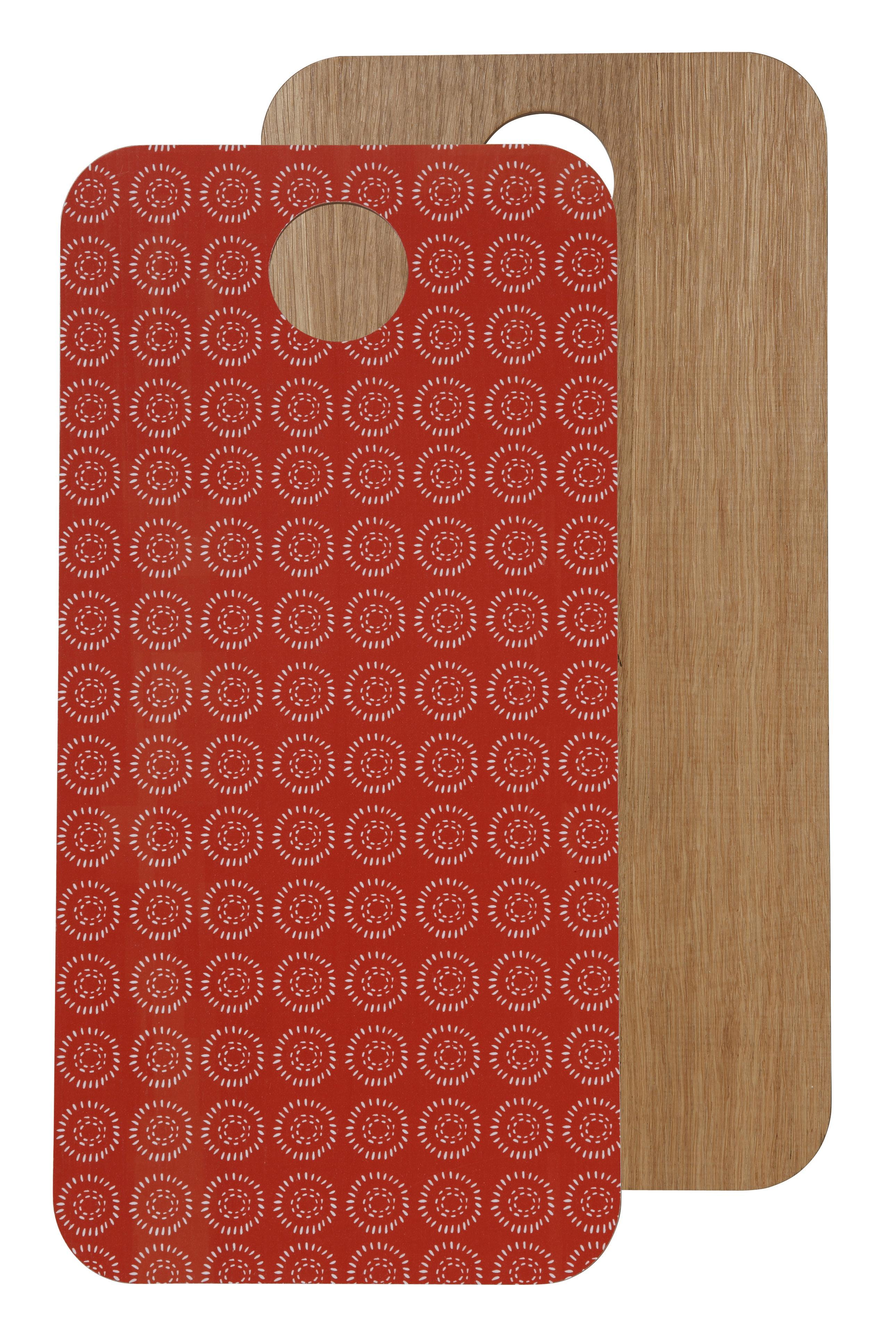gloved_hand: (32, 112, 661, 1306)
